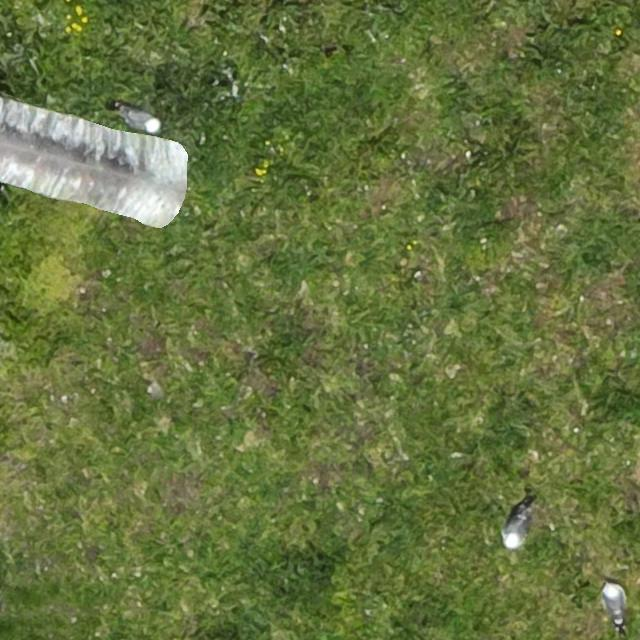umineko: (505, 511, 528, 546), (604, 583, 624, 620), (124, 110, 157, 132)
